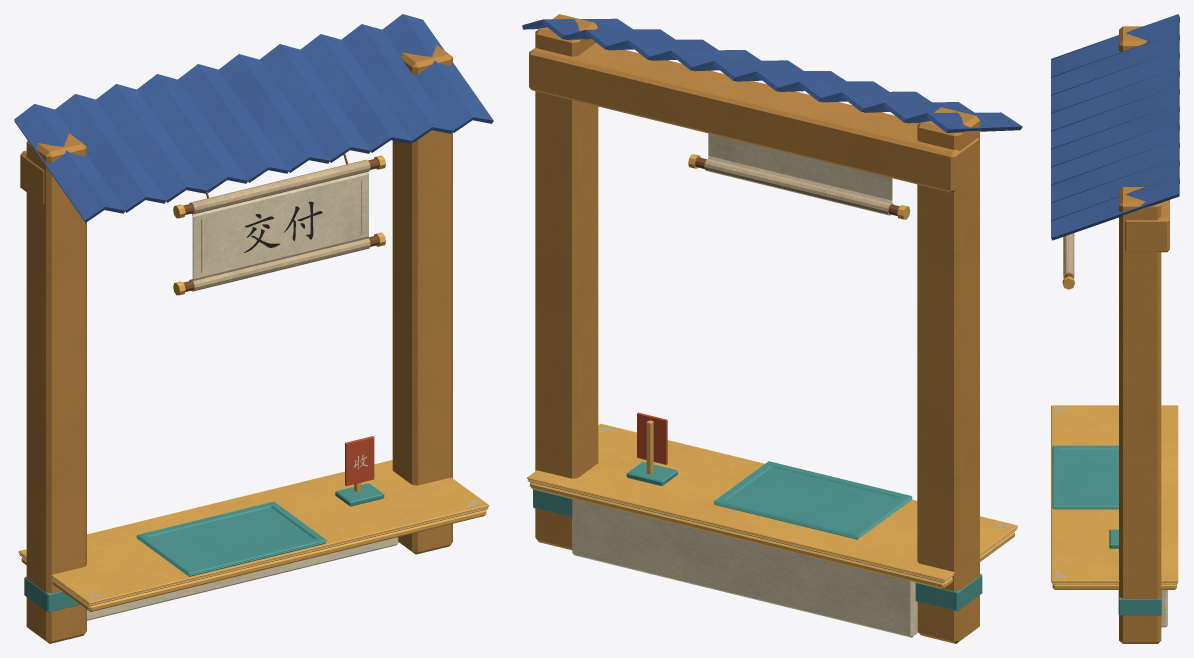
The model's file is station_delivery.glb.
3 views of the same model, side by side, from view 1: azimuth 30°, elevation 25°; view 2: azimuth 150°, elevation 25°; view 3: azimuth 270°, elevation 25° (orthographic). The views are drawn at different scales.
Visible parts, largest first — view 1: station_delivery, station_delivery__upright, station_delivery__upright.001, station_delivery__counter, station_delivery__scroll_paper, station_delivery__tray_base, station_delivery__counter__core, station_delivery__lower_panel, station_delivery__scroll_rolled_paper.001, station_delivery__scroll_rolled_paper, v01_delivery_receipt__marker_delivery_receipt__red_paper_tag, station_delivery__header (+6 smaller); view 2: station_delivery__upright, station_delivery__upright.001, station_delivery__header, station_delivery__lower_panel, station_delivery__counter, station_delivery, station_delivery__tray_base, station_delivery__scroll_paper, station_delivery__counter__core, station_delivery__scroll_rolled_paper, station_delivery__base_binding, v01_delivery_receipt__marker_delivery_receipt__red_paper_tag (+6 smaller); view 3: station_delivery, station_delivery__upright.001, station_delivery__counter, station_delivery__tray_base, station_delivery__header, station_delivery__base_binding.001, station_delivery__tray_end, station_delivery__counter__core, station_delivery__upright, station_delivery__scroll_rolled_paper, station_delivery__tray_side.001, station_delivery__tray_side (+1 smaller).
Part boxes in pixels (<box>): station_delivery: <box>14,14,493,222</box>; station_delivery__upright: <box>26,133,86,643</box>; station_delivery__upright.001: <box>392,45,452,554</box>; station_delivery__counter: <box>18,460,489,603</box>; station_delivery__scroll_paper: <box>192,171,368,281</box>; station_delivery__tray_base: <box>136,507,326,576</box>; station_delivery__counter__core: <box>21,510,486,611</box>; station_delivery__lower_panel: <box>87,537,398,620</box>; station_delivery__scroll_rolled_paper.001: <box>189,159,370,214</box>; station_delivery__scroll_rolled_paper: <box>189,238,370,291</box>; v01_delivery_receipt__marker_delivery_receipt__red_paper_tag: <box>345,436,374,485</box>; station_delivery__header: <box>20,150,44,204</box>; station_delivery__upright: <box>917,107,979,643</box>; station_delivery__upright.001: <box>535,14,598,550</box>; station_delivery__header: <box>529,43,979,192</box>; station_delivery__lower_panel: <box>572,499,918,637</box>; station_delivery__counter: <box>527,423,1017,580</box>; station_delivery: <box>522,18,1022,132</box>; station_delivery__tray_base: <box>714,467,912,539</box>; station_delivery__scroll_paper: <box>708,133,892,204</box>; station_delivery__counter__core: <box>530,482,1014,588</box>; station_delivery__scroll_rolled_paper: <box>704,158,893,215</box>; station_delivery__base_binding: <box>915,573,982,611</box>; v01_delivery_receipt__marker_delivery_receipt__red_paper_tag: <box>637,412,667,464</box>; station_delivery: <box>1051,14,1179,240</box>; station_delivery__upright.001: <box>1119,187,1161,643</box>; station_delivery__counter: <box>1051,405,1178,582</box>; station_delivery__tray_base: <box>1052,450,1118,509</box>; station_delivery__header: <box>1125,200,1169,252</box>; station_delivery__base_binding.001: <box>1118,590,1161,615</box>; station_delivery__tray_end: <box>1052,447,1060,503</box>; station_delivery__counter__core: <box>1052,584,1176,589</box>; station_delivery__upright: <box>1119,26,1147,51</box>; station_delivery__scroll_rolled_paper: <box>1063,233,1074,278</box>; station_delivery__tray_side.001: <box>1052,503,1118,507</box>; station_delivery__tray_side: <box>1052,445,1118,449</box>.
Size of the model in its own units: 2 by 2.4 by 0.6066.
Materials: 12 (11 with a texture image).
